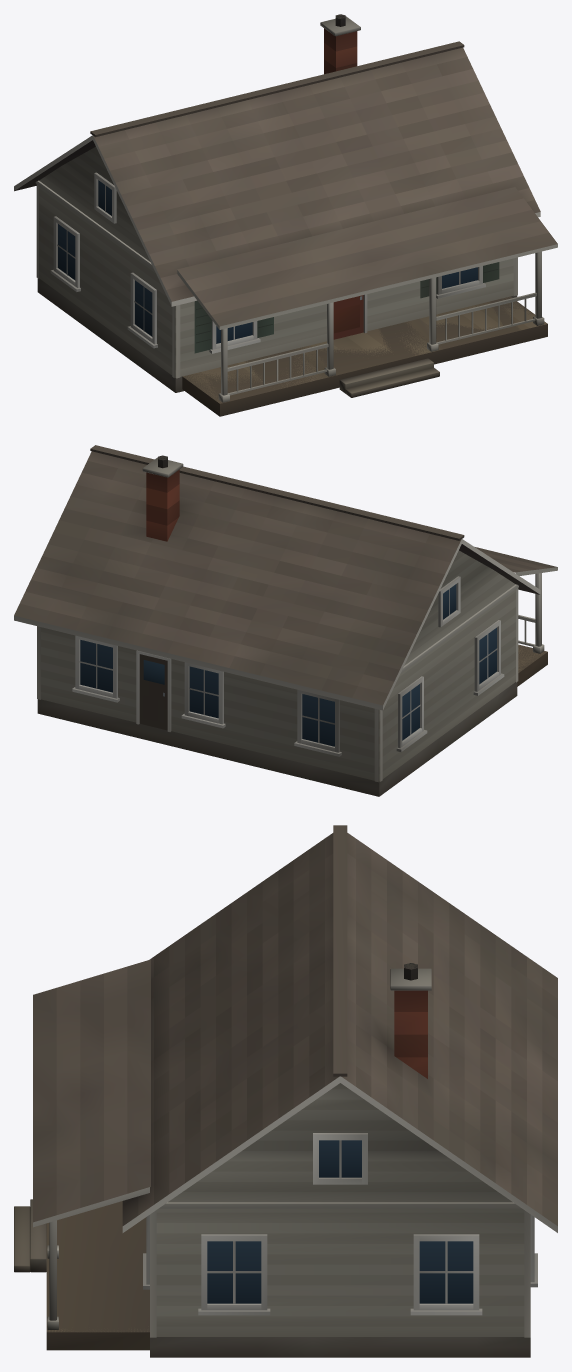
The model's file is house_a.glb.
3 renders of one model, top to bottom at view 1: azimuth 30°, elevation 25°; view 2: azimuth 150°, elevation 25°; view 3: azimuth 270°, elevation 25°, orthographic. The views are drawn at different scales.
Visible parts, largest first — view 1: HouseA; view 2: HouseA; view 3: HouseA.
Part boxes in pixels (left/top/right/bottom): HouseA: left=14, top=14, right=557, bottom=416; HouseA: left=14, top=445, right=557, bottom=796; HouseA: left=14, top=825, right=557, bottom=1357.
Bounding box in the file's own units: 10.8 × 6.82 × 10.
